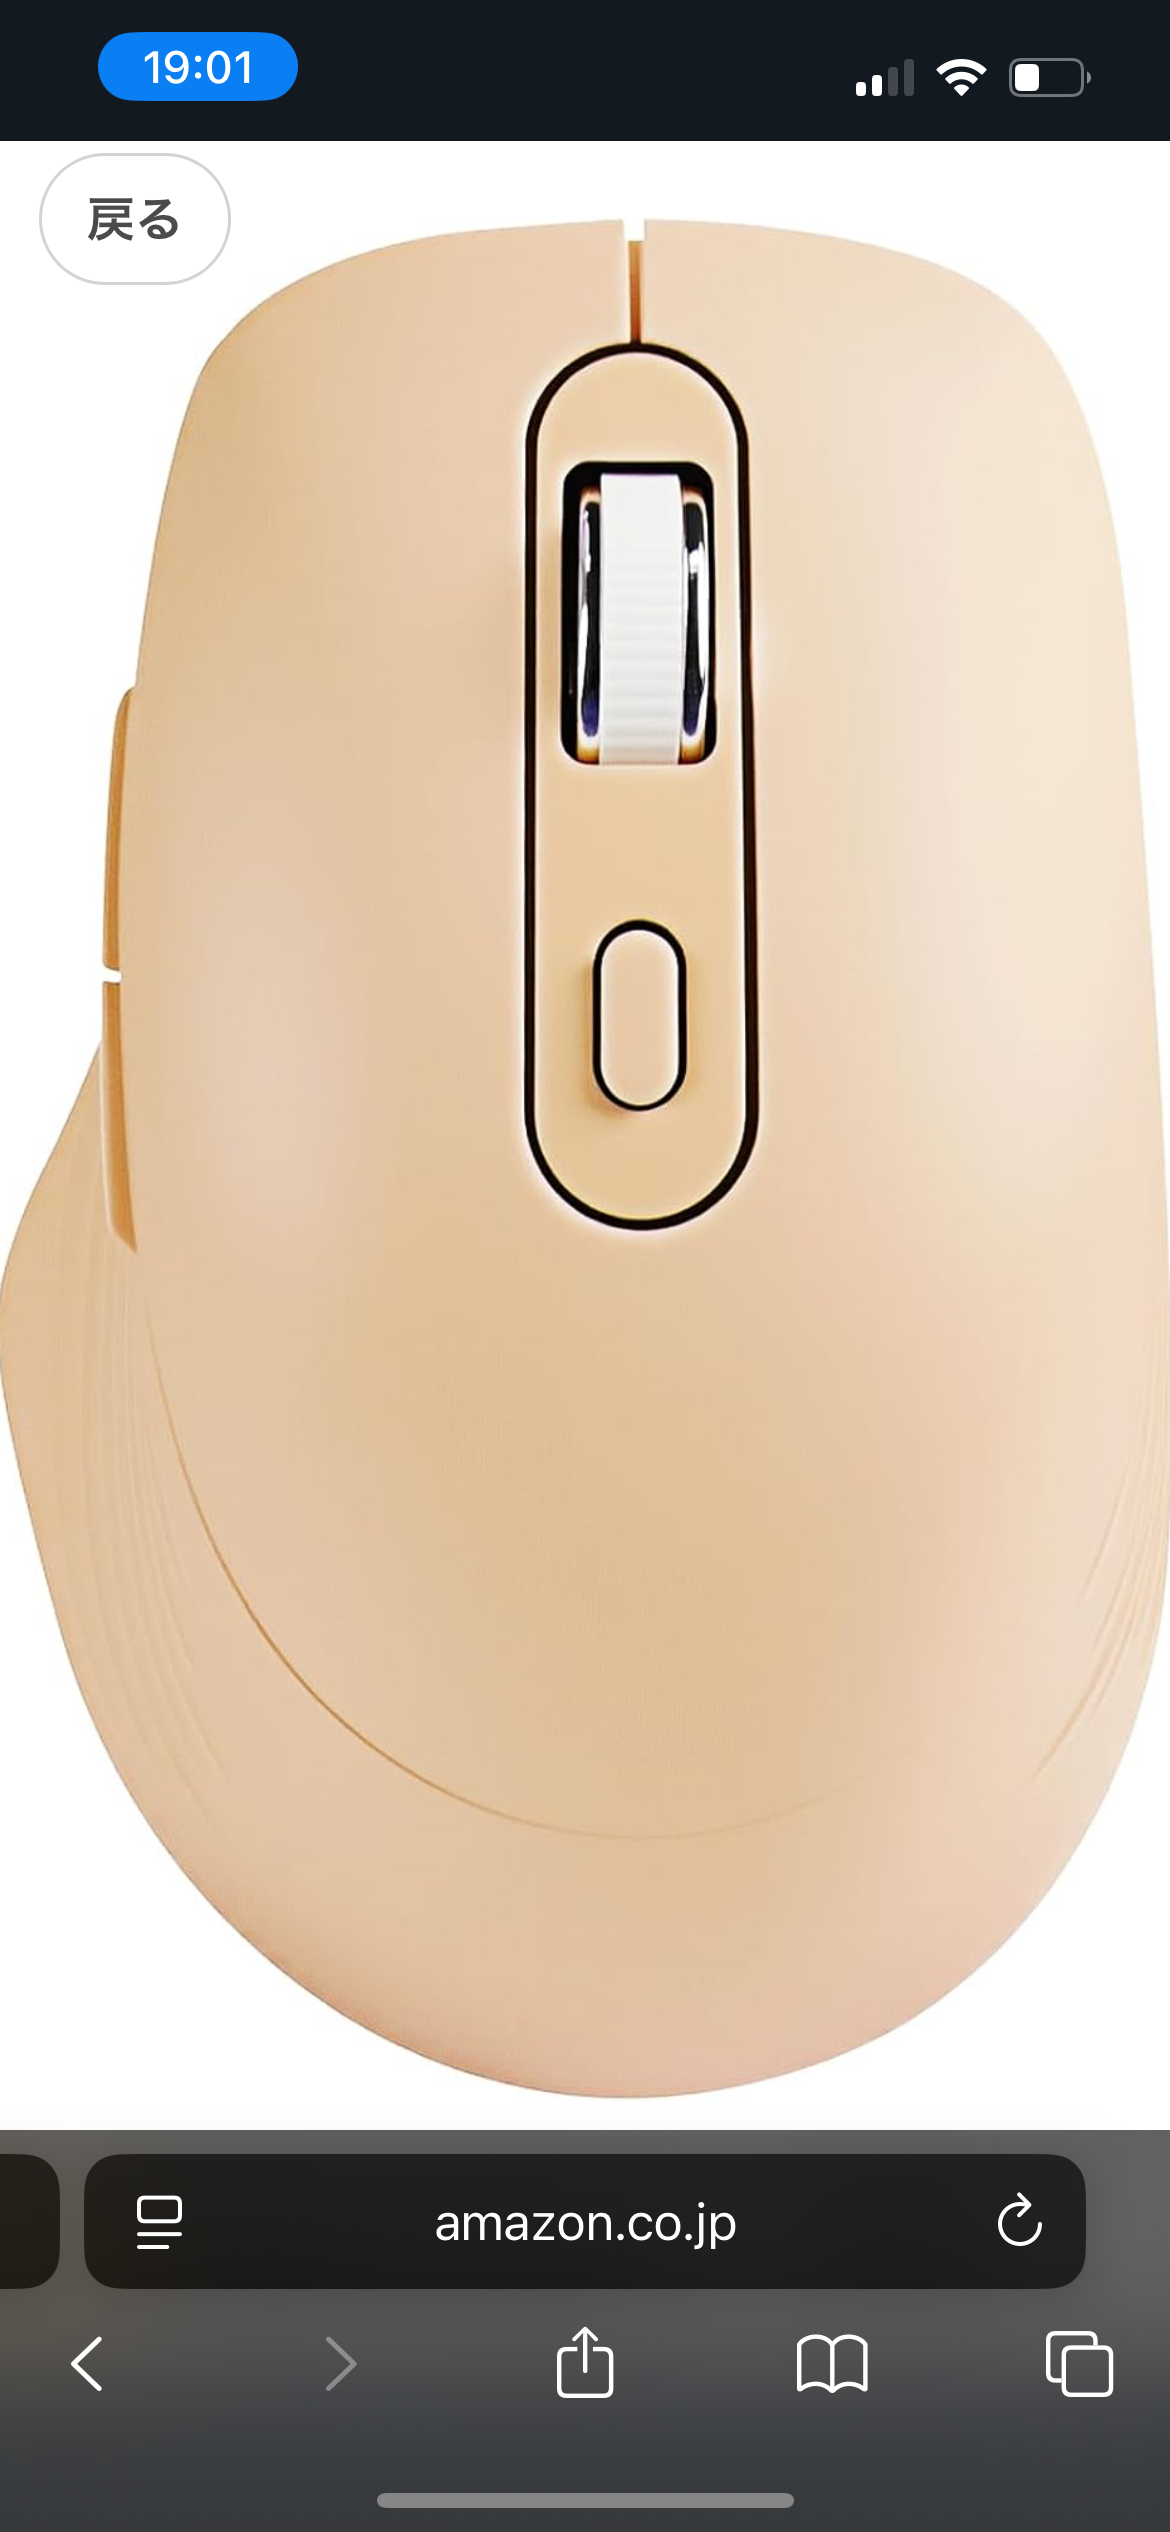mouse: (483, 228, 689, 2093)
